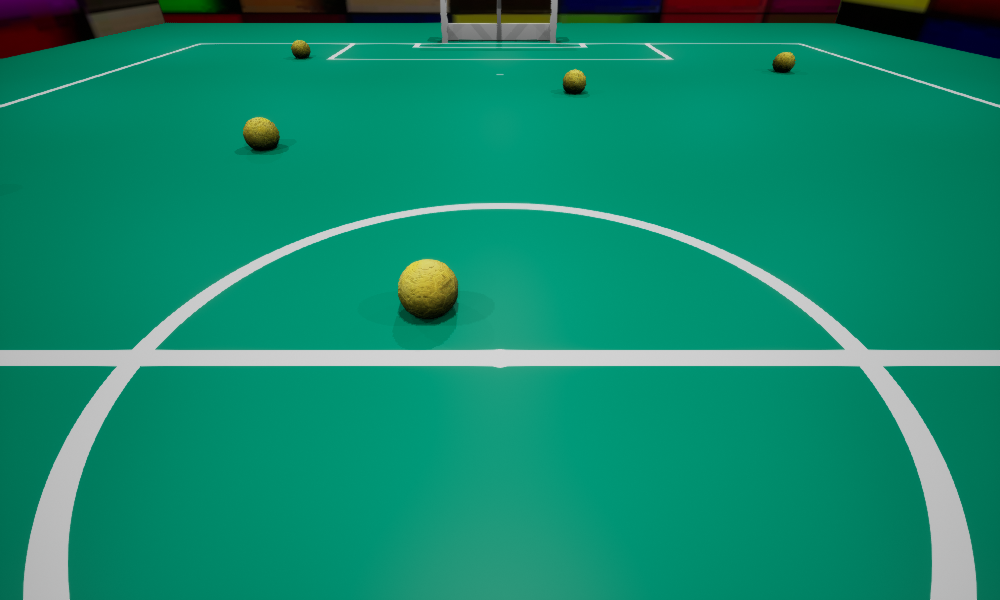b: (398, 259, 457, 318), (243, 117, 279, 150), (563, 69, 585, 93), (772, 52, 795, 72), (291, 40, 310, 58)
g: (440, 0, 557, 42)
